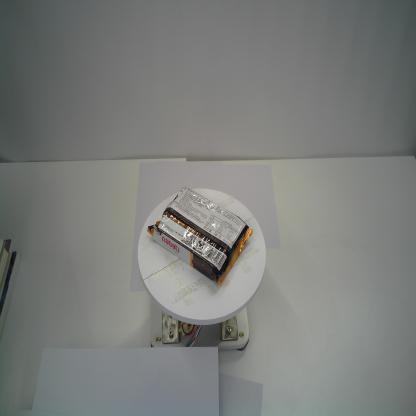Dessert: (144, 184, 254, 288)
